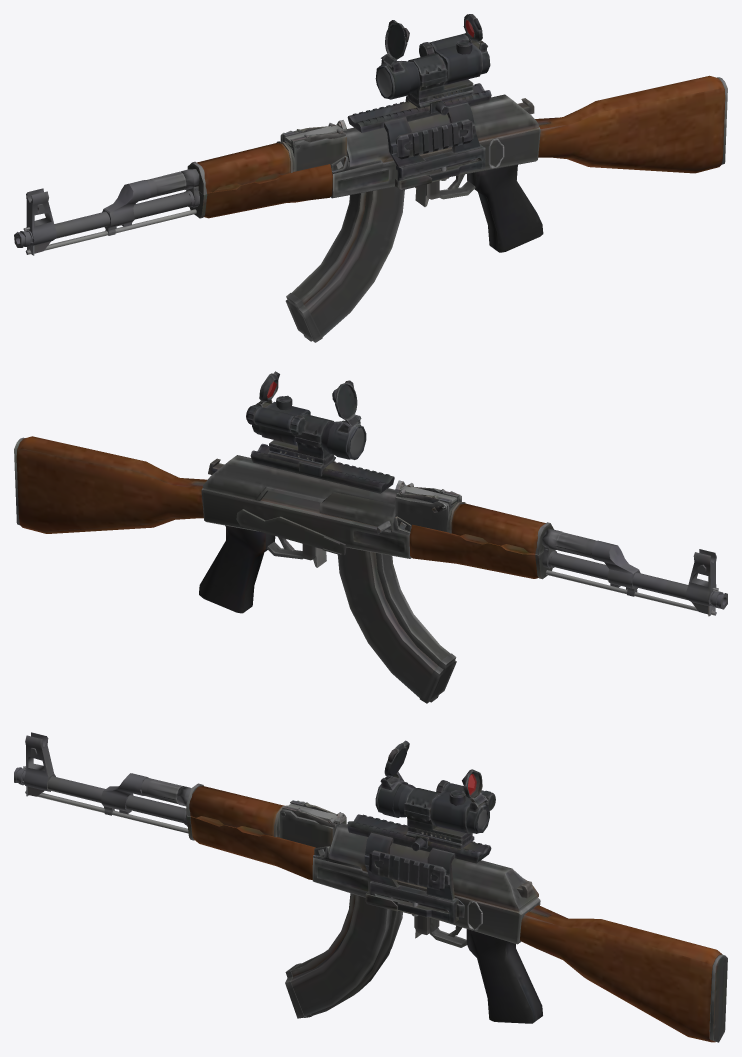
Rendered from w_sniper.glb.
The picture shows the model from 3 angles, top to bottom: view 1: azimuth 30°, elevation 25°; view 2: azimuth 150°, elevation 25°; view 3: azimuth 330°, elevation 25°; orthographic projection.
Parts seen in each view (by area): view 1: handgrip_low_Material #37_0; view 2: handgrip_low_Material #37_0; view 3: handgrip_low_Material #37_0.
Boxes of the visible parts, <box> form: handgrip_low_Material #37_0: <box>14,14,727,342</box>; handgrip_low_Material #37_0: <box>14,371,727,703</box>; handgrip_low_Material #37_0: <box>14,732,727,1042</box>.
Bounding box in the file's own units: 970 × 386 × 86.57.
2 materials, 2 textured.
